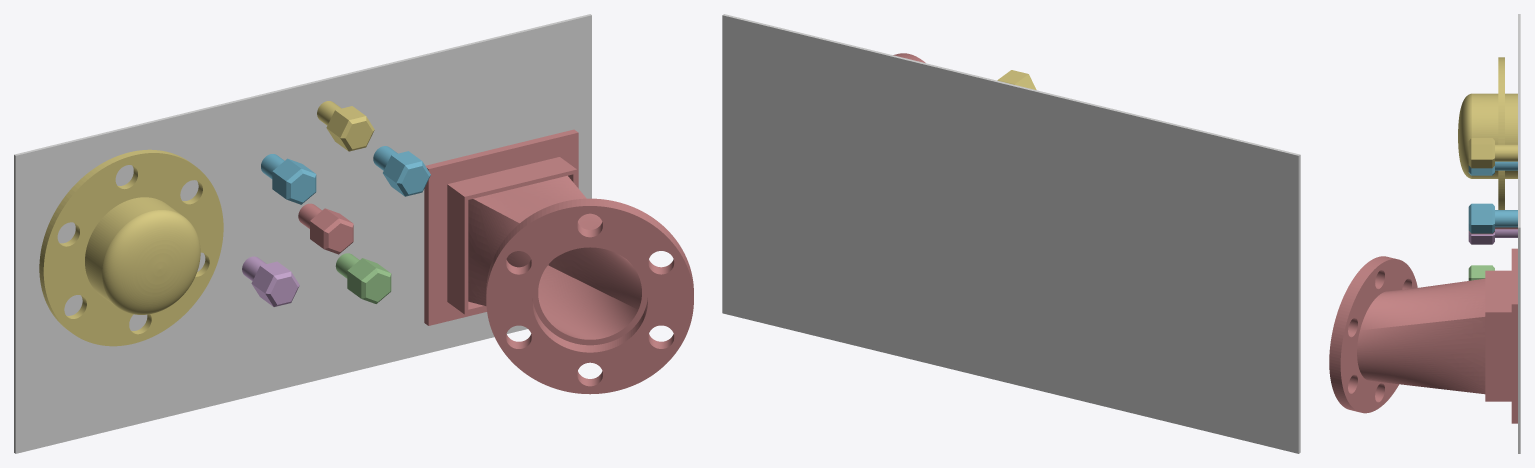
The model's file is pickup_layout.glb.
3 views of the same model, side by side, from view 1: azimuth 30°, elevation 25°; view 2: azimuth 150°, elevation 25°; view 3: azimuth 270°, elevation 25° (orthographic). The views are drawn at different scales.
Visible parts, largest first — view 1: world, 0.obj, 1.obj, 7.obj, 3.obj, 4.obj, 6.obj, 2.obj, 5.obj; view 2: world; view 3: 0.obj, 1.obj, world, 7.obj, 6.obj, 3.obj, 2.obj, 4.obj.
Part boxes in pixels (bbox=[...]): world: bbox=[14, 14, 591, 453]; 0.obj: bbox=[424, 129, 693, 394]; 1.obj: bbox=[39, 149, 223, 346]; 7.obj: bbox=[373, 146, 430, 196]; 3.obj: bbox=[242, 256, 299, 306]; 4.obj: bbox=[335, 253, 391, 303]; 6.obj: bbox=[317, 101, 374, 151]; 2.obj: bbox=[261, 154, 316, 204]; 5.obj: bbox=[298, 203, 353, 254]; world: bbox=[722, 14, 1300, 453]; 0.obj: bbox=[1329, 248, 1517, 423]; 1.obj: bbox=[1458, 57, 1517, 209]; world: bbox=[1518, 14, 1520, 453]; 7.obj: bbox=[1468, 203, 1517, 233]; 6.obj: bbox=[1468, 138, 1517, 168]; 3.obj: bbox=[1468, 229, 1517, 244]; 2.obj: bbox=[1468, 161, 1517, 175]; 4.obj: bbox=[1468, 265, 1494, 280].
Bounding box in the file's own units: 38.45 × 19 × 14.57.
